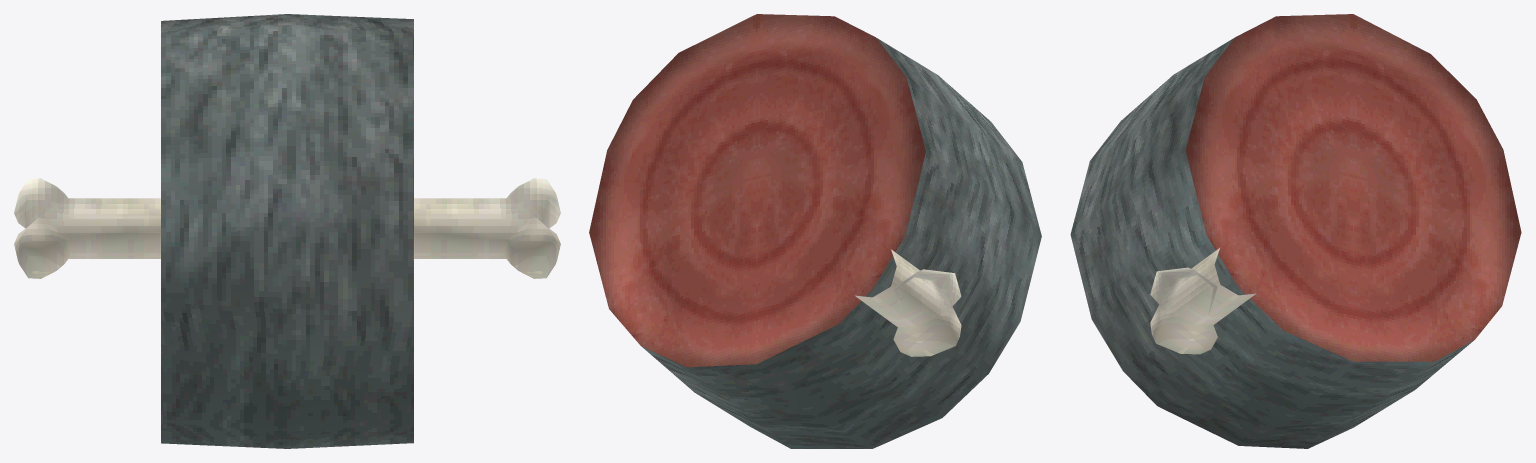
The model's file is ps2_save-icons_hissatsupachinkostationv11crgyaatoruzu.glb.
The picture shows the model from 3 angles, left to right: view 1: azimuth 30°, elevation 25°; view 2: azimuth 150°, elevation 25°; view 3: azimuth 270°, elevation 25°; orthographic projection. The views are drawn at different scales.
Parts seen in each view (by area): view 1: micon.ico; view 2: micon.ico; view 3: micon.ico.
Part boxes in pixels (left/top/right/bottom): micon.ico: left=14, top=14, right=560, bottom=448; micon.ico: left=589, top=14, right=1041, bottom=448; micon.ico: left=1070, top=14, right=1521, bottom=448.
Size of the model in its own units: 4.03 by 3.59 by 4.06.
1 material, 1 textured.
